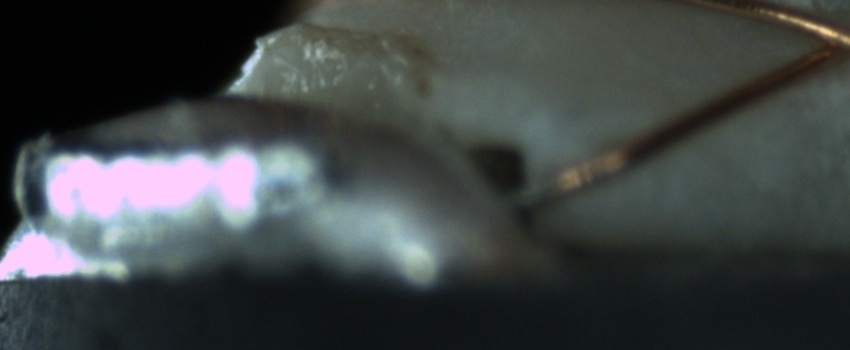CL: (794, 12, 850, 76)
TS: (512, 180, 560, 211)
